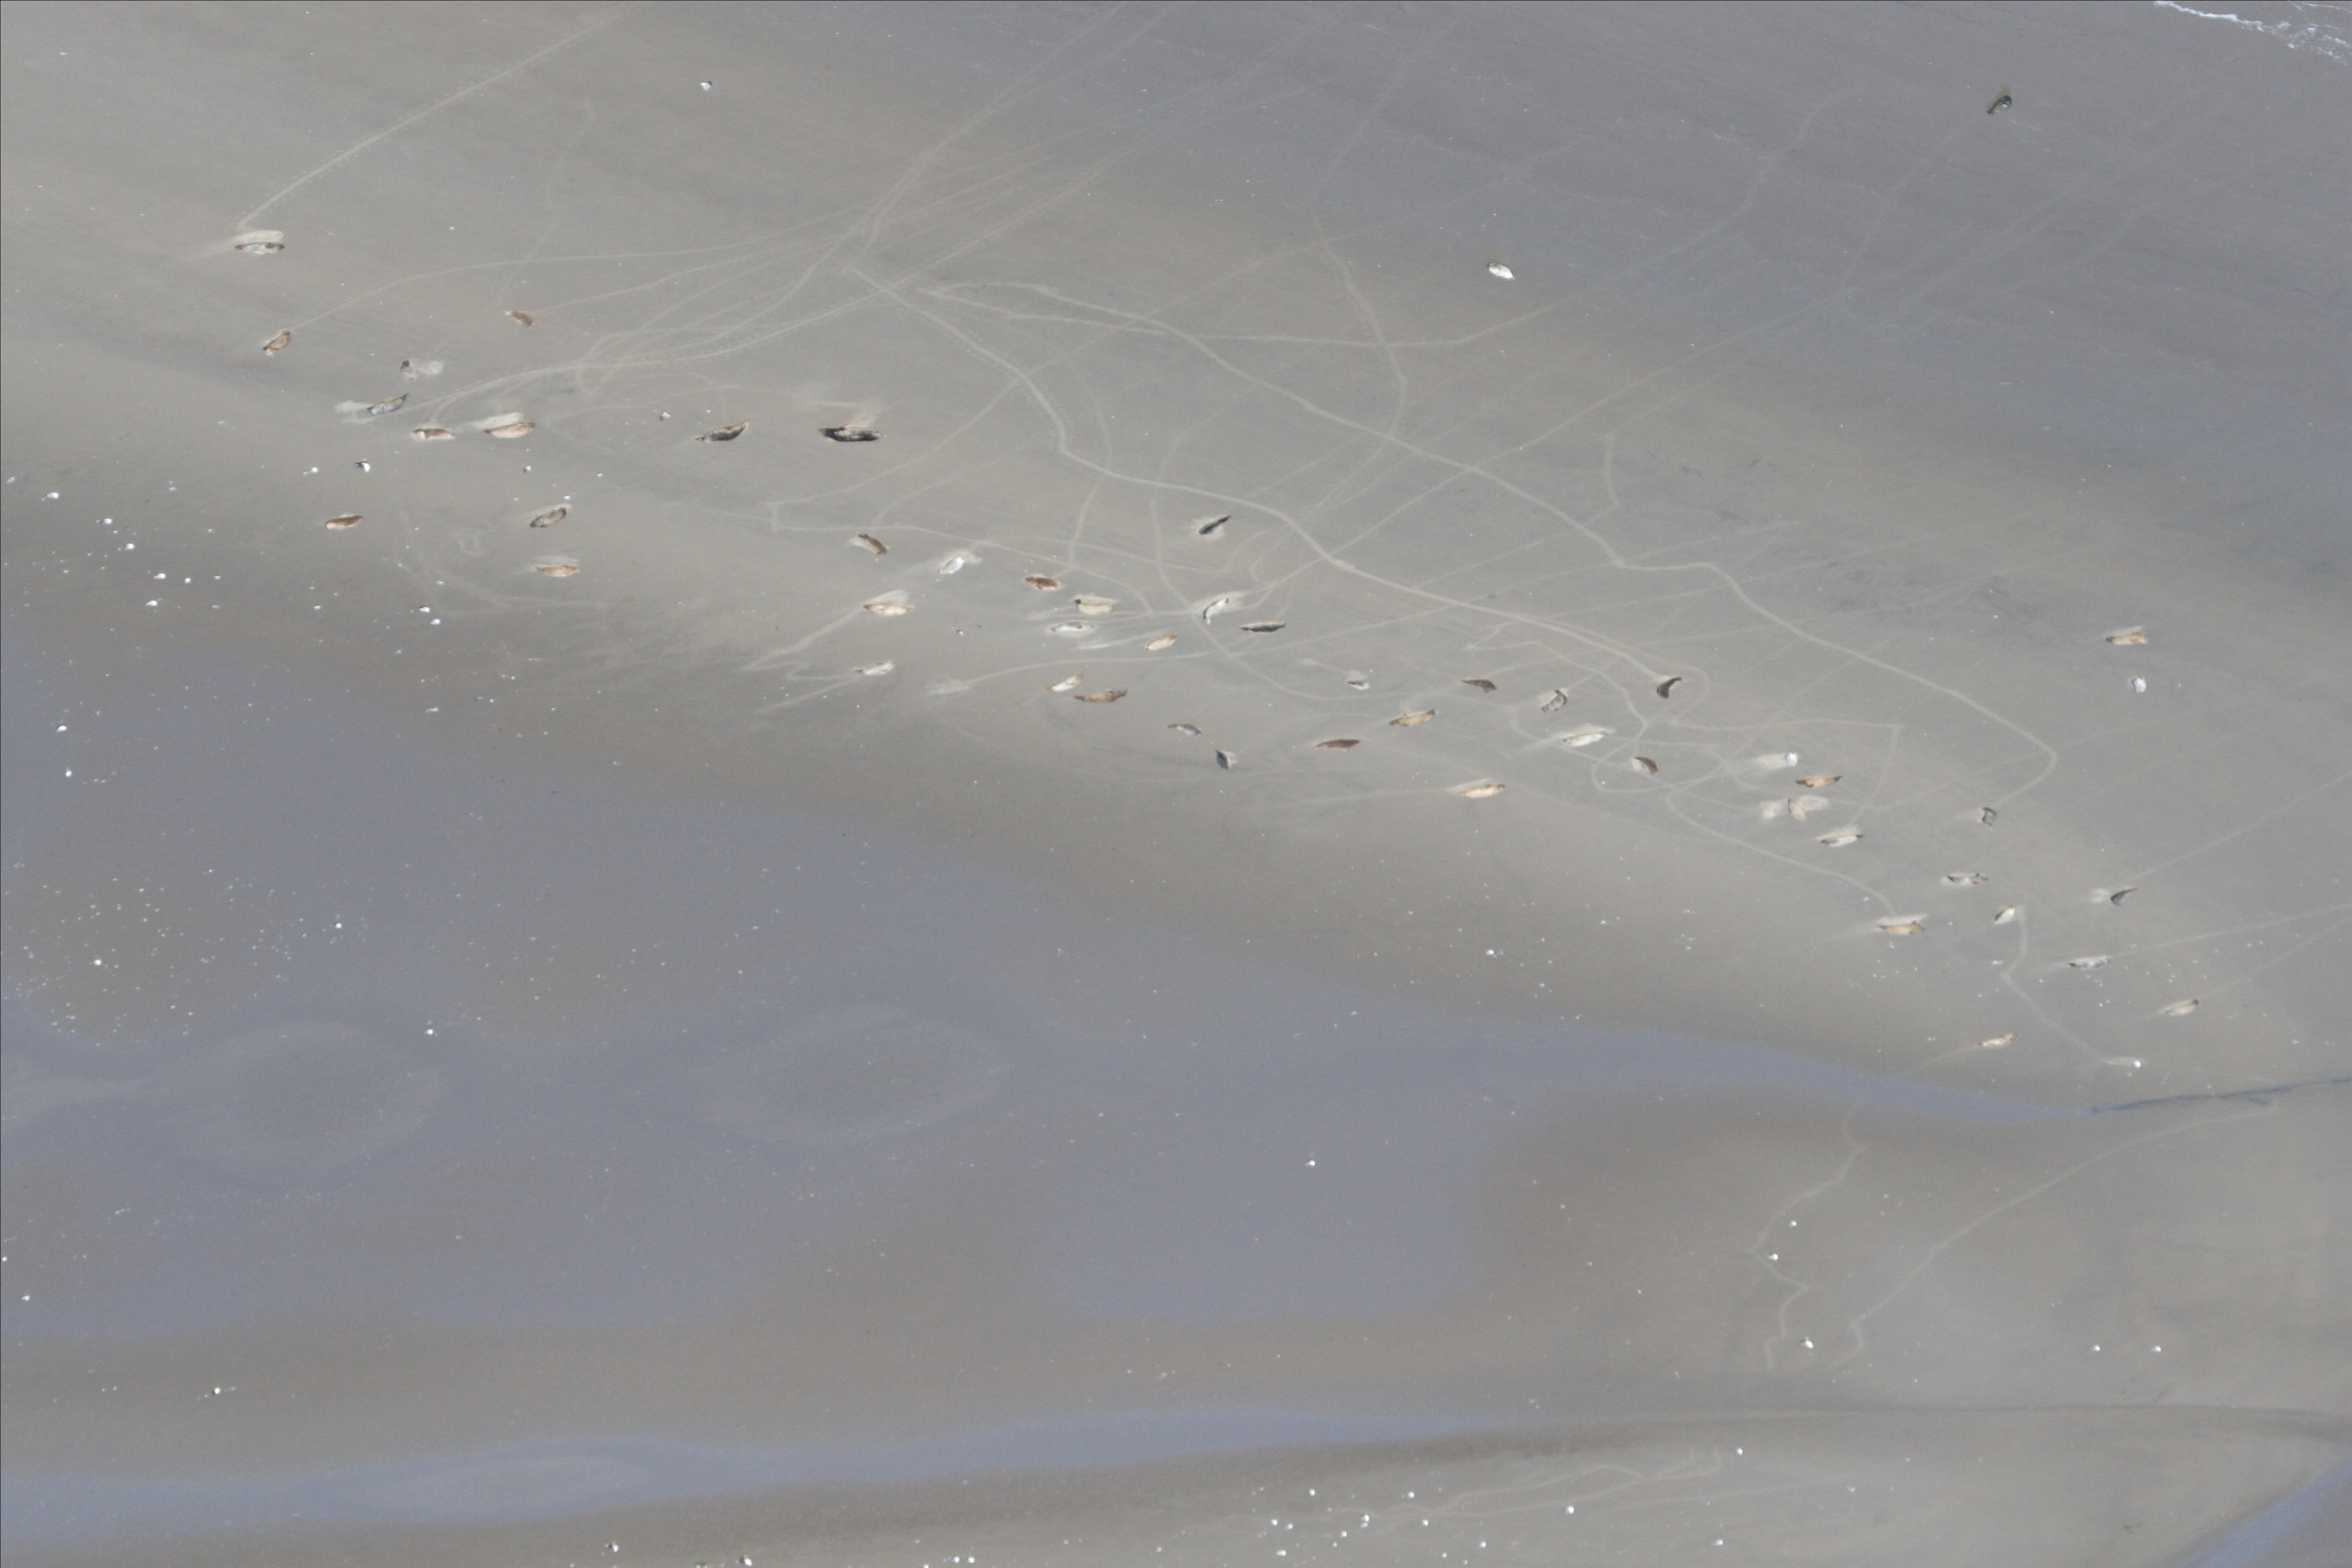robbe: (693, 422, 749, 446), (817, 425, 886, 445), (367, 389, 411, 416), (1162, 718, 1207, 744), (485, 418, 537, 441), (2105, 626, 2153, 649), (1071, 688, 1129, 705), (1391, 709, 1442, 728), (1046, 669, 1085, 693), (1818, 831, 1866, 851), (2102, 884, 2138, 908), (261, 329, 292, 357), (2166, 997, 2202, 1022), (1461, 782, 1505, 802), (1626, 753, 1662, 775), (530, 506, 567, 528), (1879, 920, 1925, 938), (1197, 516, 1232, 539), (1986, 94, 2016, 121), (1564, 730, 1605, 749), (2063, 955, 2112, 971), (1237, 621, 1286, 637), (1146, 632, 1183, 653), (1073, 598, 1117, 616), (324, 513, 362, 532), (235, 240, 287, 254), (1977, 803, 2002, 833), (1318, 737, 1363, 753), (863, 602, 914, 616), (1484, 262, 1517, 283), (1783, 794, 1806, 824), (1461, 677, 1500, 695), (1796, 777, 1843, 791), (857, 534, 889, 555), (413, 427, 455, 443), (1543, 688, 1568, 714), (1204, 595, 1227, 623), (1979, 1032, 2019, 1048), (1025, 576, 1060, 593), (535, 563, 579, 577), (1657, 675, 1683, 698), (504, 310, 537, 327), (856, 661, 892, 677), (1943, 875, 1990, 886), (1048, 621, 1095, 632), (940, 557, 964, 576), (1346, 677, 1374, 691), (1995, 908, 2016, 926), (1215, 751, 1232, 770)
